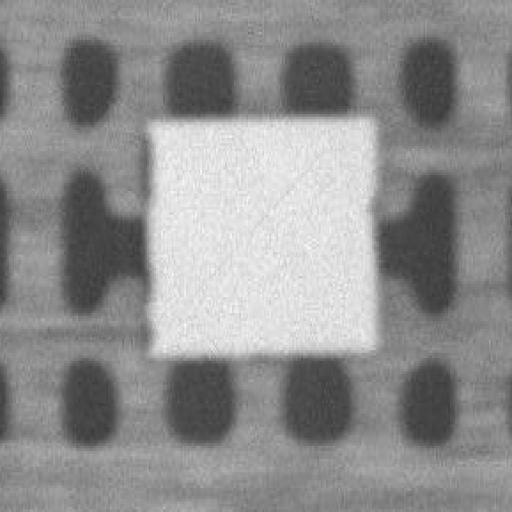DIE_CRACK: (276, 99, 480, 200)
